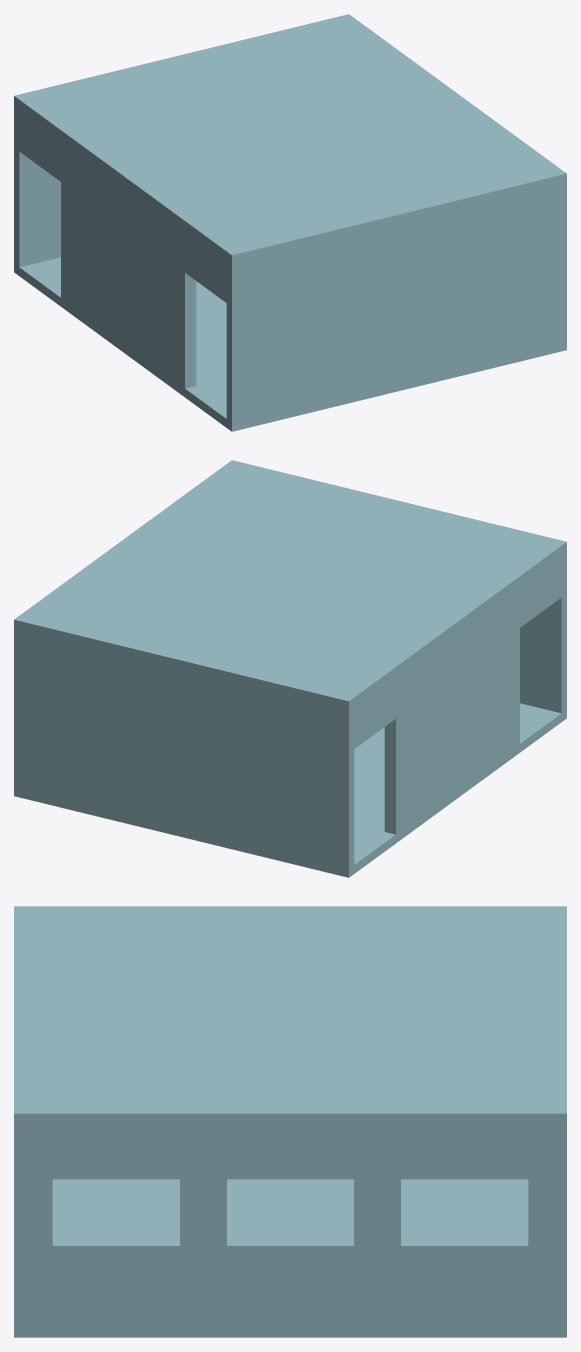
File: sala_COM_TETO.fbx
3 renders of one model, top to bottom at view 1: azimuth 30°, elevation 25°; view 2: azimuth 150°, elevation 25°; view 3: azimuth 270°, elevation 25°, orthographic. The views are drawn at different scales.
Parts seen in each view (by area): view 1: Cube.002; view 2: Cube.002; view 3: Cube.002.
Boxes of the visible parts, <box> form: Cube.002: <box>14,14,566,431</box>; Cube.002: <box>14,460,566,877</box>; Cube.002: <box>14,906,566,1337</box>.
Bounding box in the file's own units: 811 × 408 × 914.
